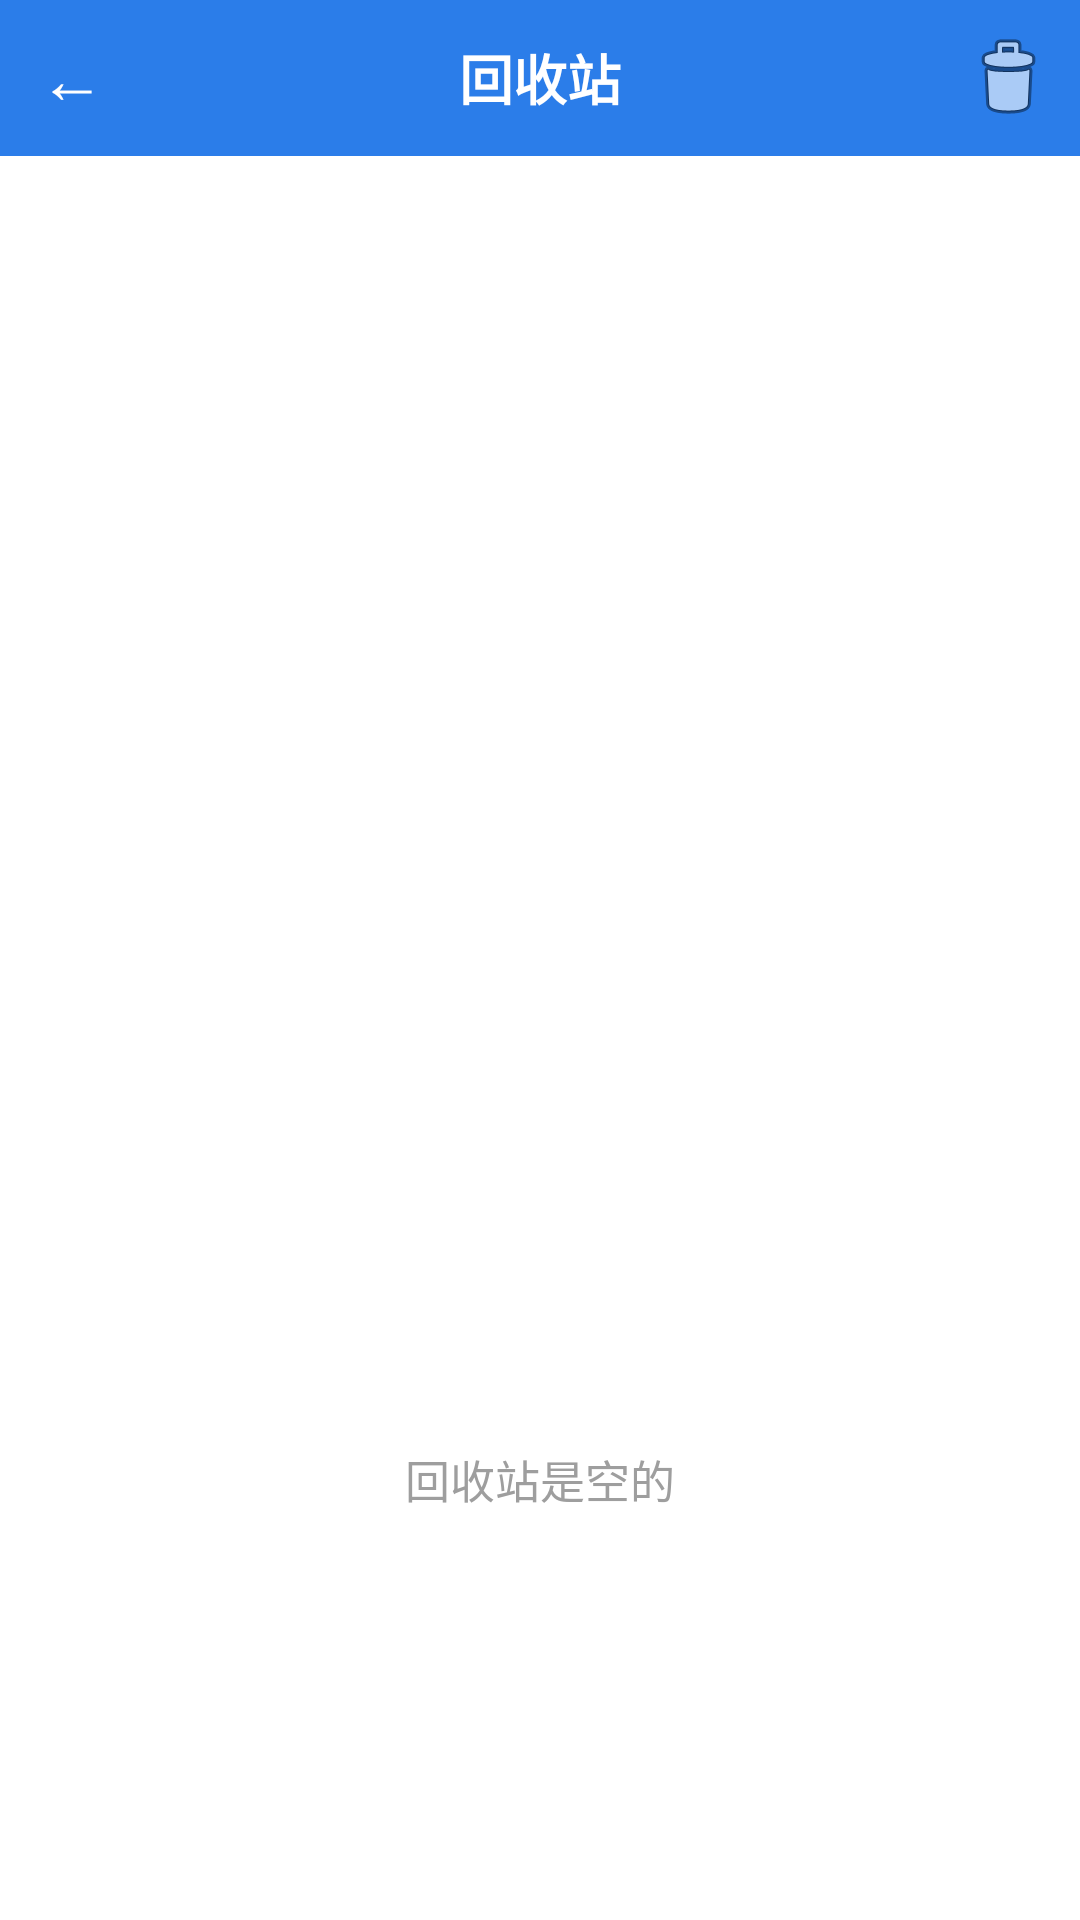

Locate icon controls on the screen. Image size 1080w x 1920h, boxes as BBox(x1, y1, x2, y2).
永久删除: BBox(981, 39, 1036, 114)
